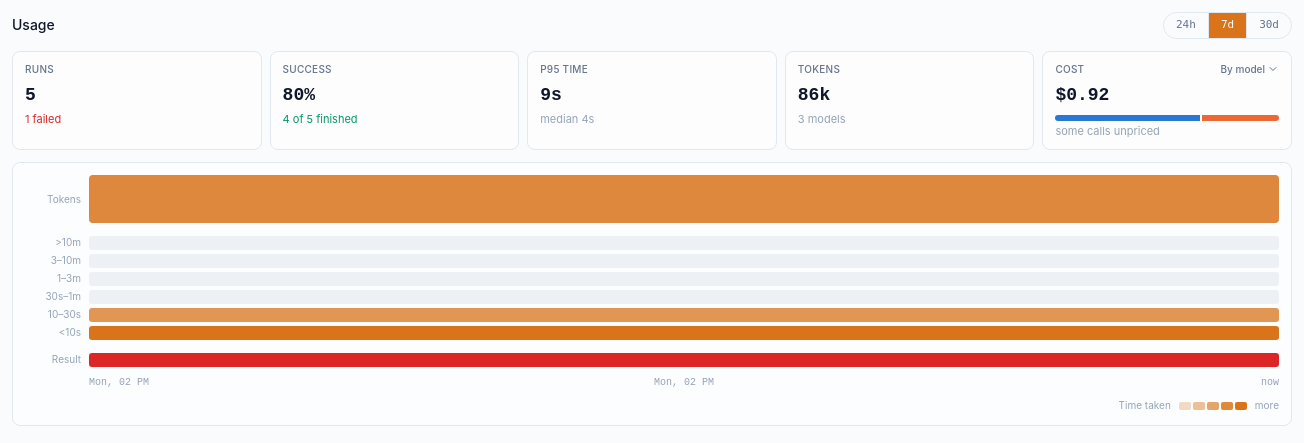
Test: the cost tile opens the cost by model › keeps a model's colour when the range changes, even when it is no longer the largest
Expected: the number of elements with test id "usage-cost-seg" is 2, [1055,114,1200,120]; [1202,114,1279,120]
Click the tab with test id "usage-range-30d": (1269, 25) [1246,13,1291,38]
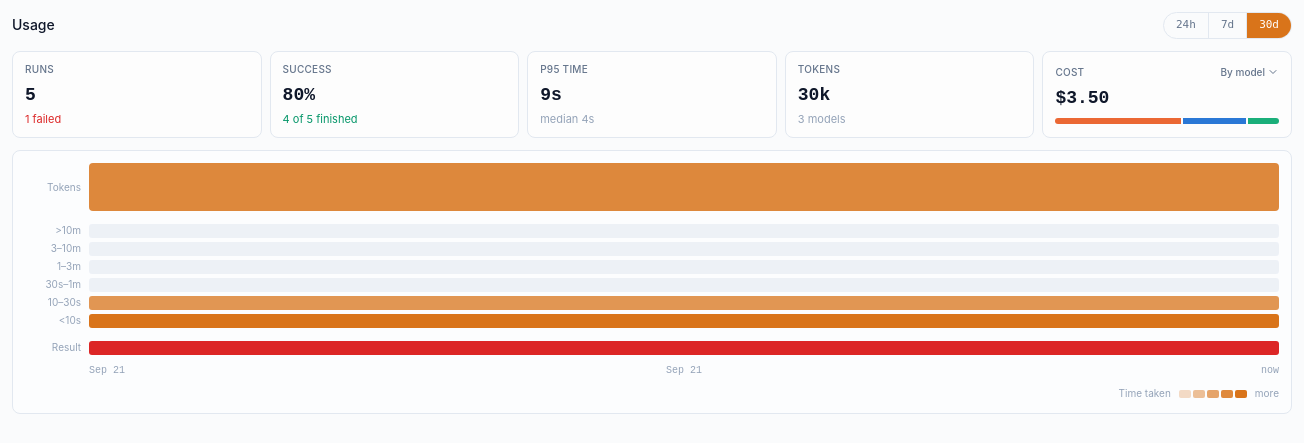
Now the number of elements with test id "usage-cost-seg" is 3, box [1055,118,1181,124]; [1183,118,1246,124]; [1248,118,1279,124]
